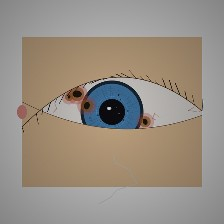foreign_body_visible: (61, 90, 78, 104)
